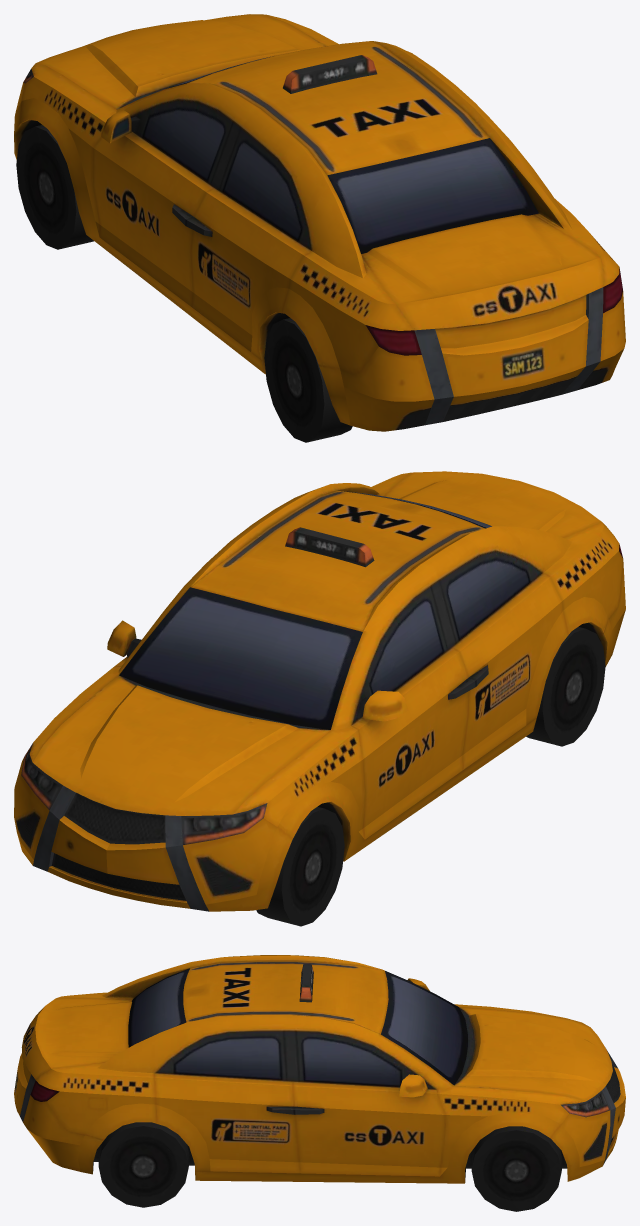
File: car_taxi_01.glb
The picture shows the model from 3 angles, top to bottom: view 1: azimuth 30°, elevation 25°; view 2: azimuth 150°, elevation 25°; view 3: azimuth 270°, elevation 25°; orthographic projection. The views are drawn at different scales.
Parts seen in each view (by area): view 1: e7_taxi_0__0; view 2: e7_taxi_0__0; view 3: e7_taxi_0__0.
Boxes of the visible parts, x1,y1,x2,y2 form: e7_taxi_0__0: [14, 14, 625, 442]; e7_taxi_0__0: [14, 471, 625, 926]; e7_taxi_0__0: [14, 955, 625, 1211].
Size of the model in its own units: 227 by 182 by 544.
Materials: 1 (1 with a texture image).
